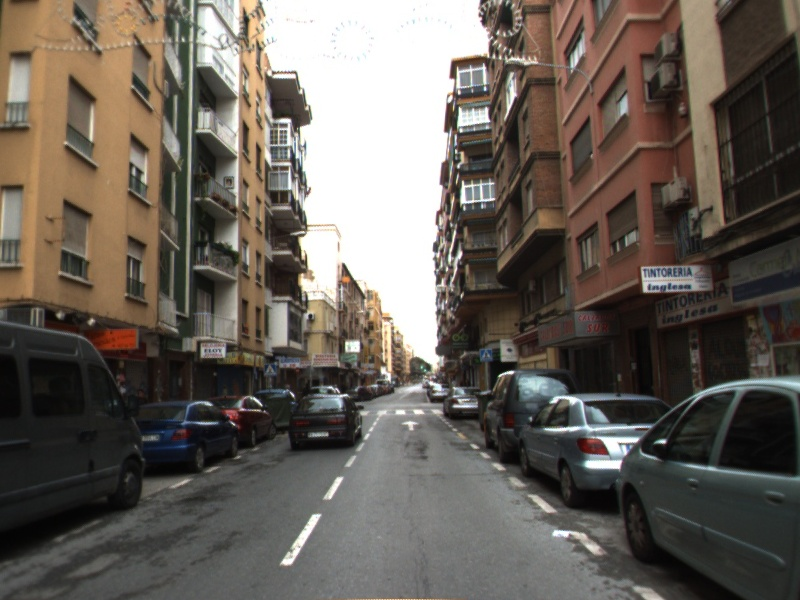STRAIGHT: (399, 418, 422, 432)
